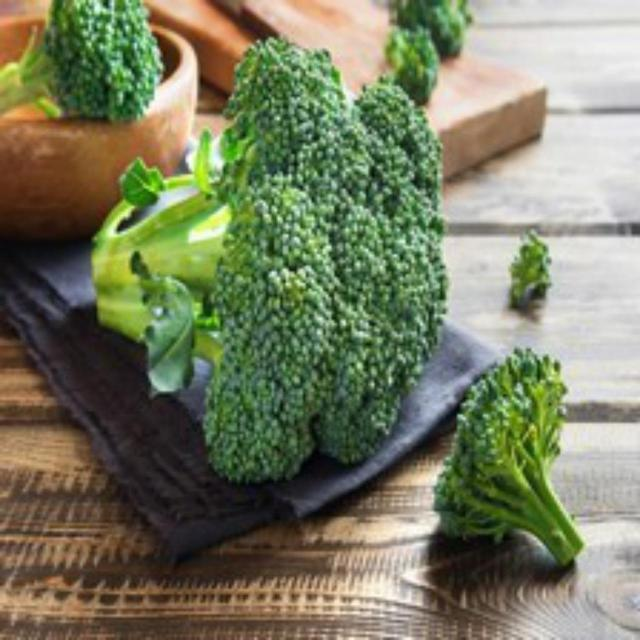broccoli: (90, 34, 452, 481)
